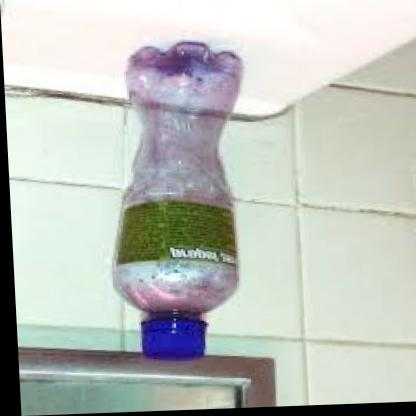Plastic: (96, 39, 259, 367)
